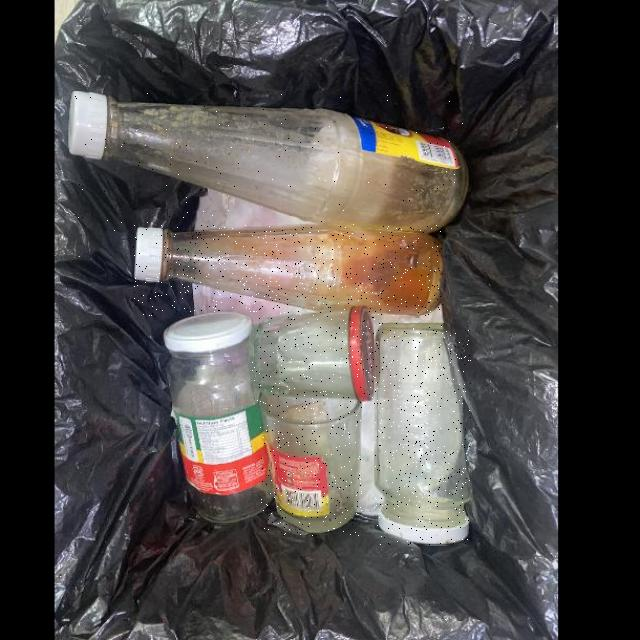glass: (68, 92, 469, 235), (133, 226, 443, 317), (163, 312, 274, 524), (375, 323, 471, 545), (261, 391, 362, 536), (252, 307, 376, 403)
